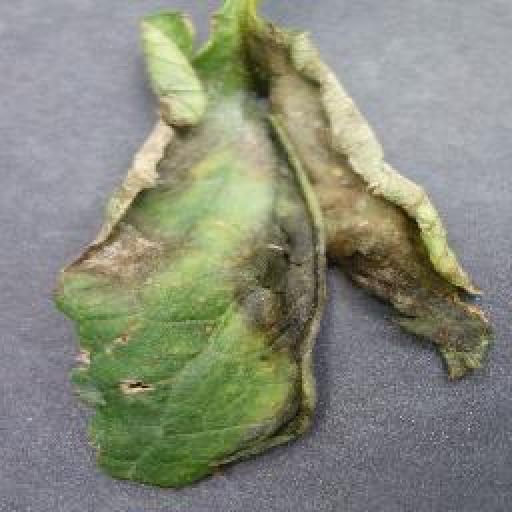disease_tomato: (55, 2, 496, 498)
